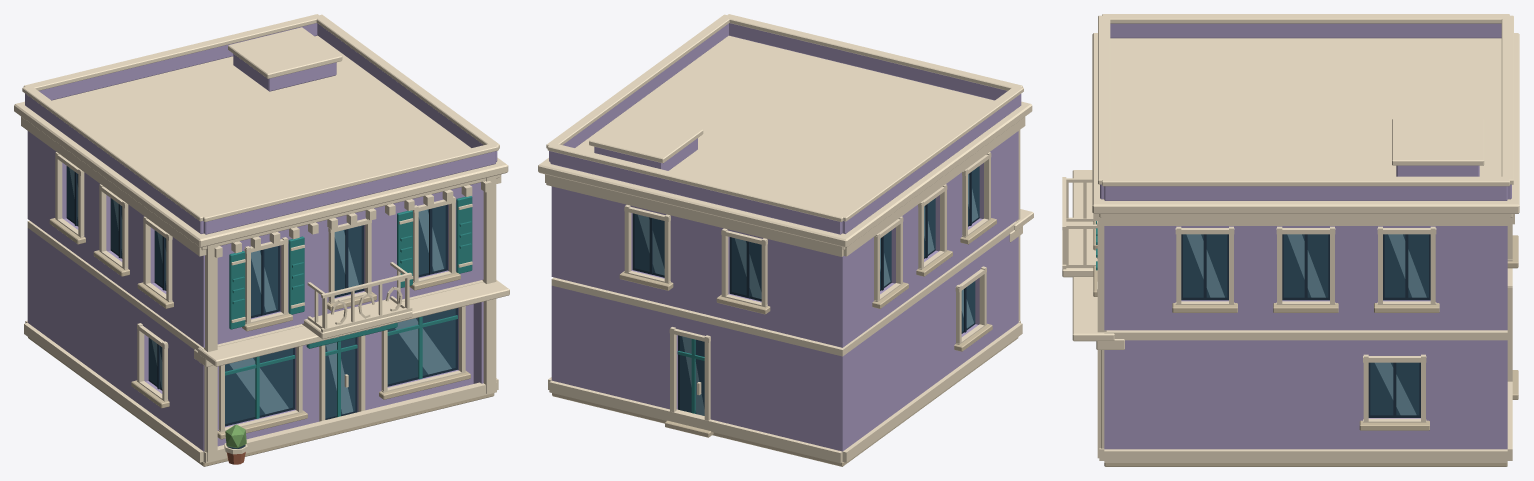
File: tea_house.glb
3 renders of one model, left to right at view 1: azimuth 30°, elevation 25°; view 2: azimuth 150°, elevation 25°; view 3: azimuth 270°, elevation 25°, orthographic. The views are drawn at different scales.
Parts seen in each view (by area): view 1: TeaHouse_StaticMesh; view 2: TeaHouse_StaticMesh; view 3: TeaHouse_StaticMesh.
Part boxes in pixels (box(x1,y1,x2,y2)): TeaHouse_StaticMesh: box(14, 14, 509, 466); TeaHouse_StaticMesh: box(538, 14, 1033, 466); TeaHouse_StaticMesh: box(1062, 14, 1519, 466).
Size of the model in its own units: 8.92 by 7.03 by 9.97.
